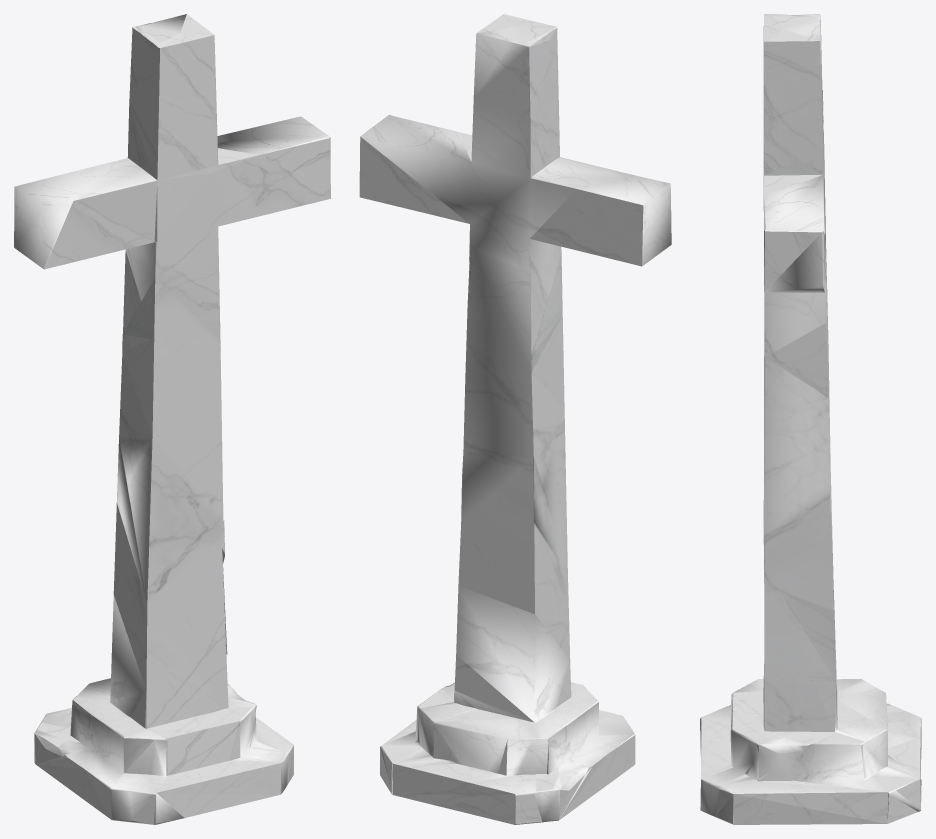
The model's file is Croix.fbx.
3 views of the same model, side by side, from view 1: azimuth 30°, elevation 25°; view 2: azimuth 150°, elevation 25°; view 3: azimuth 270°, elevation 25° (orthographic). The views are drawn at different scales.
Parts seen in each view (by area): view 1: Mesh_0; view 2: Mesh_0; view 3: Mesh_0.
Part boxes in pixels (box(x1,y1,x2,y2)): Mesh_0: box(14, 14, 330, 824); Mesh_0: box(359, 14, 671, 824); Mesh_0: box(700, 14, 921, 824).
Size of the model in its own units: 76.83 by 190 by 50.77.
Materials: 1 (1 with a texture image).
